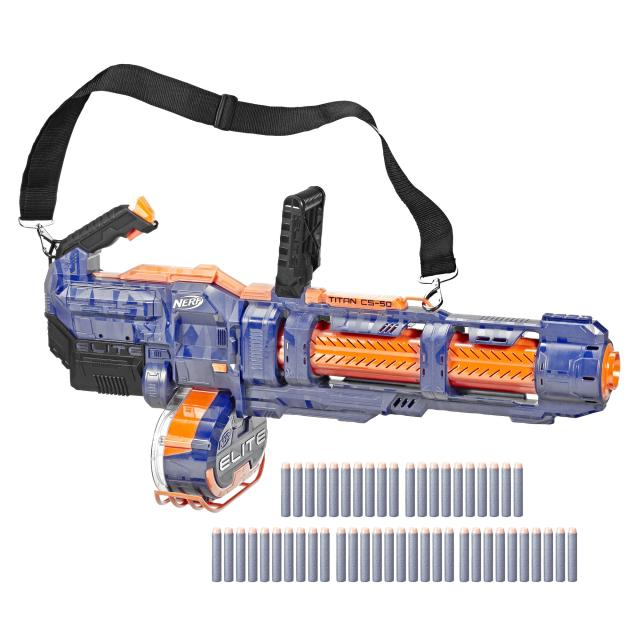Nerf gun: (39, 196, 624, 514)
